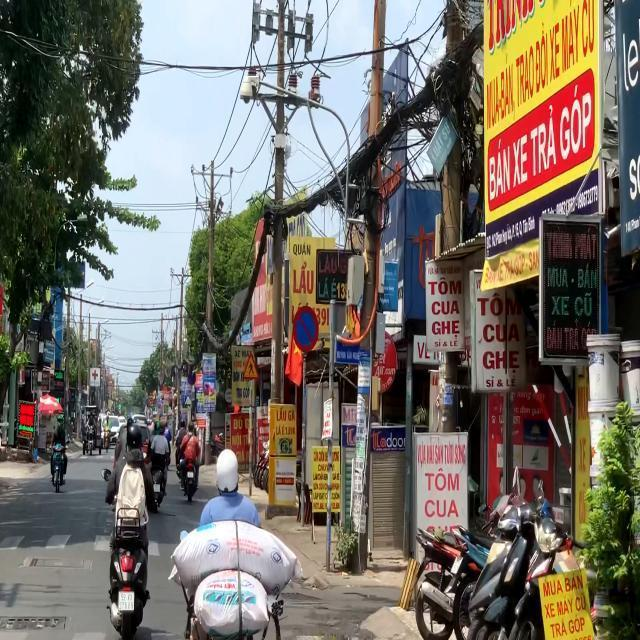131a-cam-do-xe: (291, 306, 321, 352)
224-duong-nguoi-di-bo-cat-ngang: (242, 352, 258, 380)
